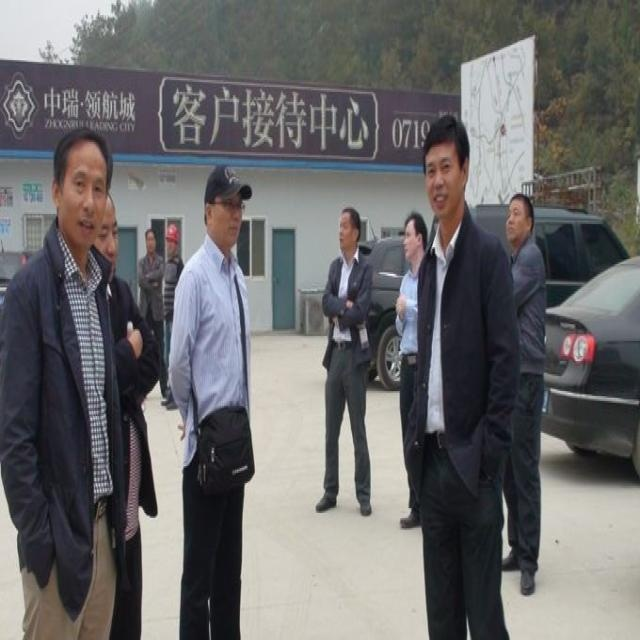Sin_Casco_Mascarrilla: (54, 128, 102, 225), (423, 123, 474, 211), (203, 168, 245, 248)
Sin_Chaleco: (416, 233, 512, 448)
